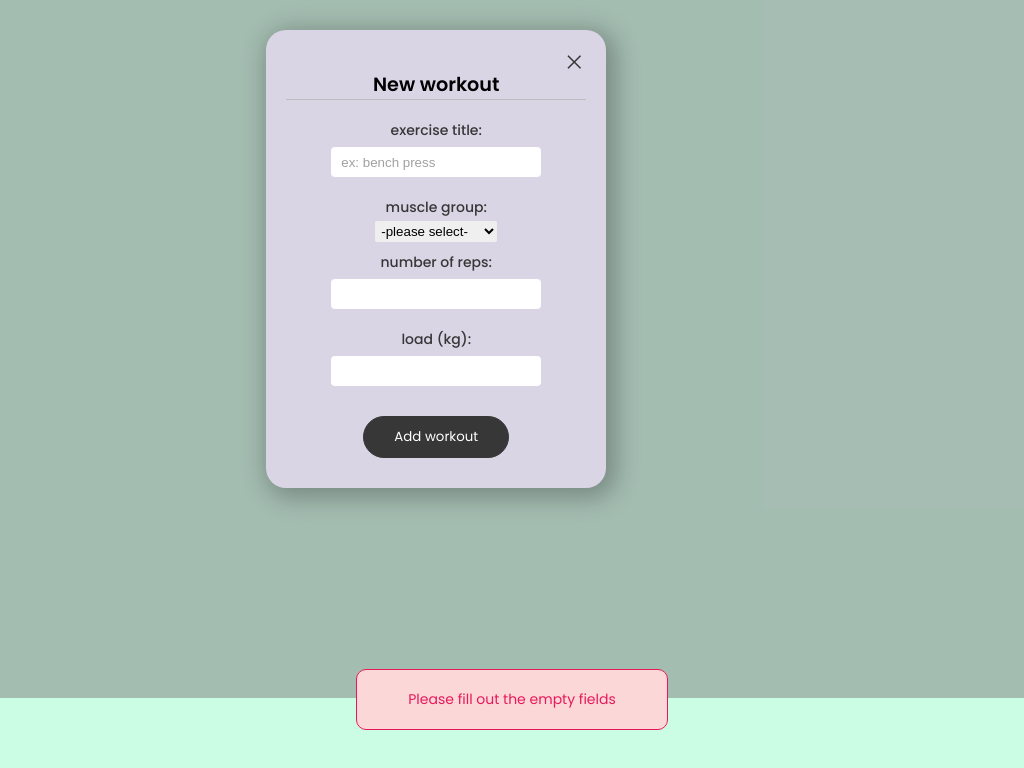
it: <WorkoutForm/> › should signal input error when title is too long
Type "adasdaasdsdfsdfdddfdfsdfsfsdfsfddsfsfsfsdfterttrtee" into the field with test id "title" at (436,162), box [331,147,541,177]
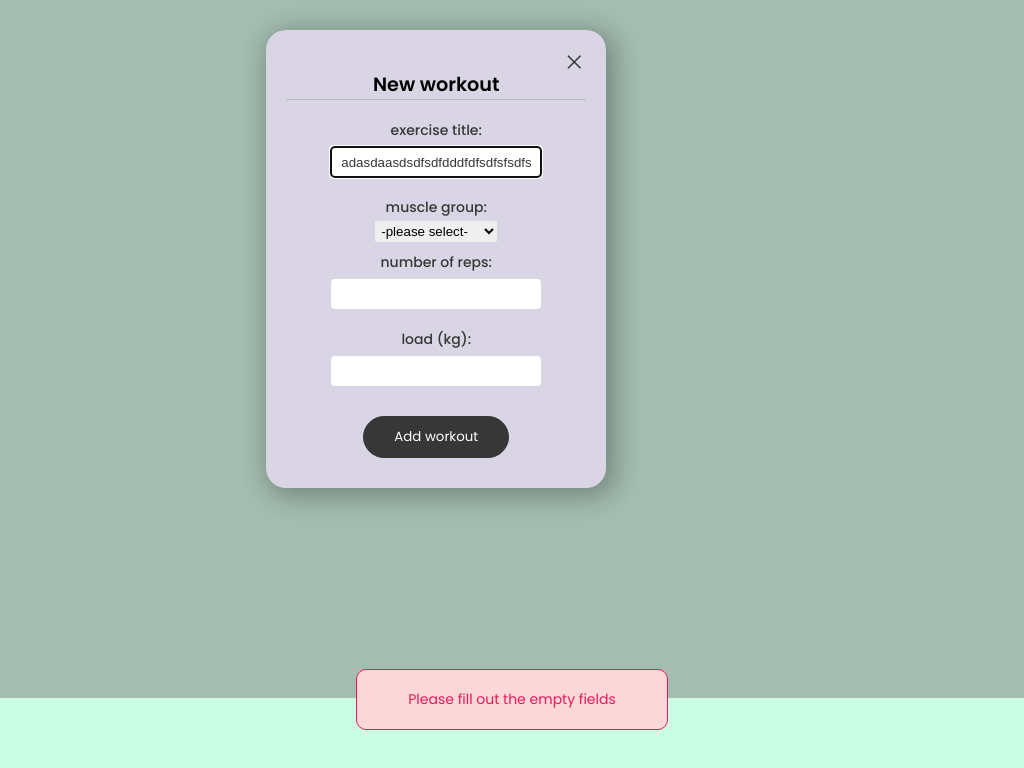
Select "biceps" in the dropdown with test id "muscle_group" at (436,232), box [375,221,497,242]
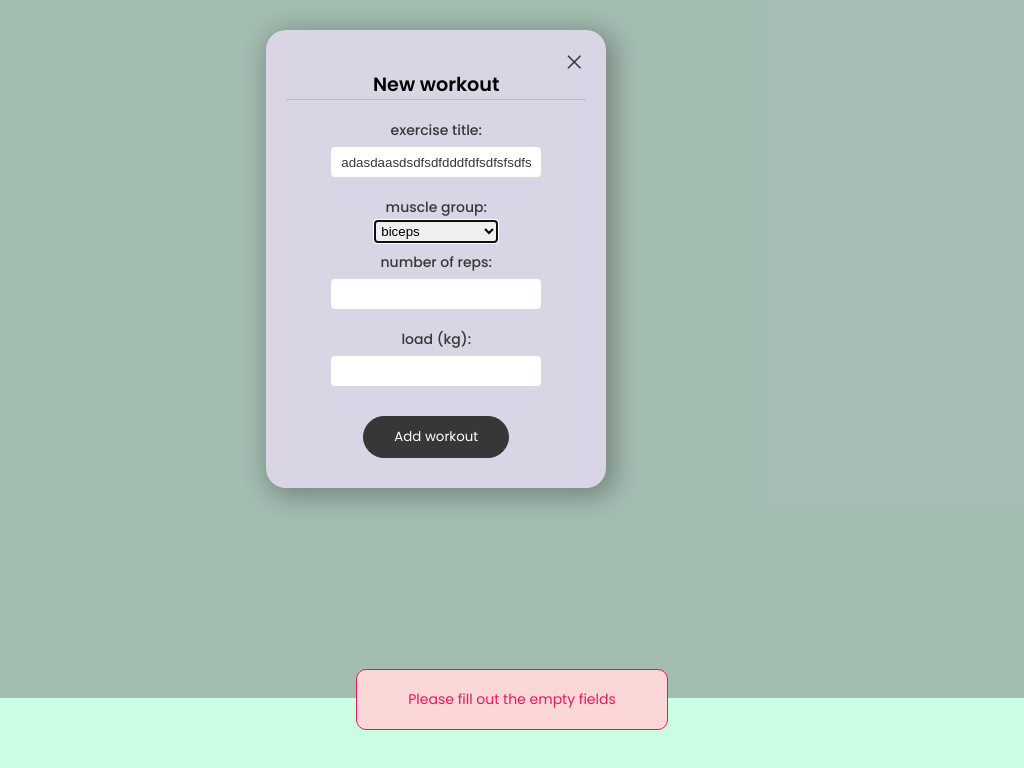
Type "22" into the number field with test id "reps" at (436,294), box [331,279,541,309]
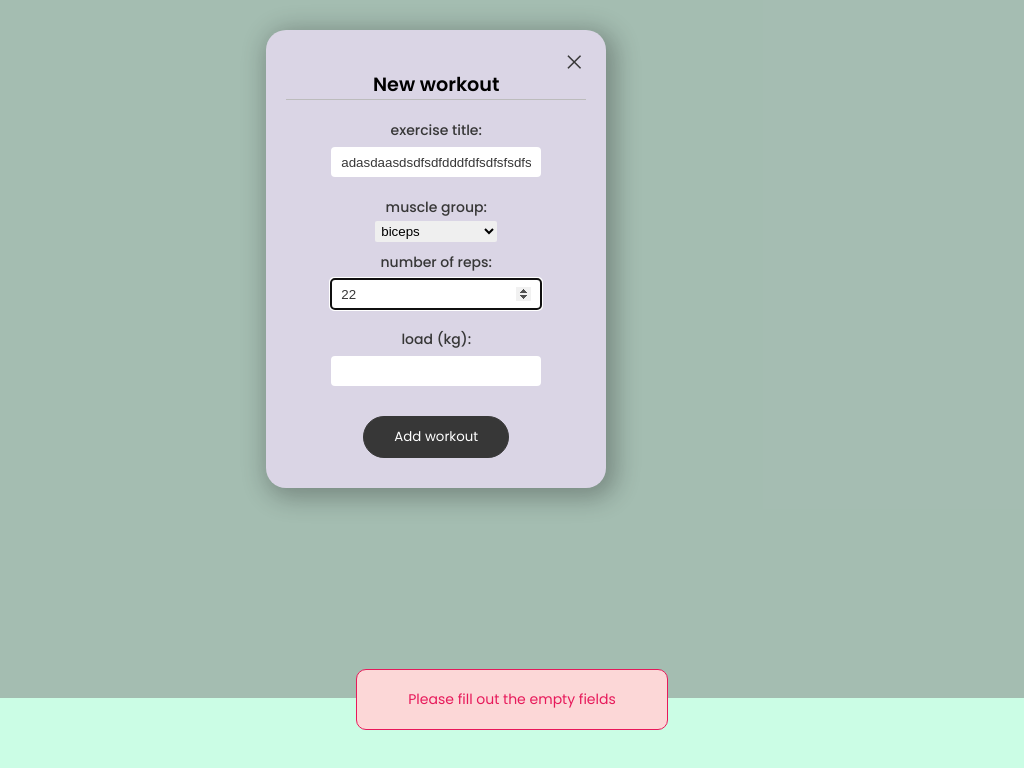
Type "22" into the number field with test id "load" at (436,371), box [331,356,541,386]
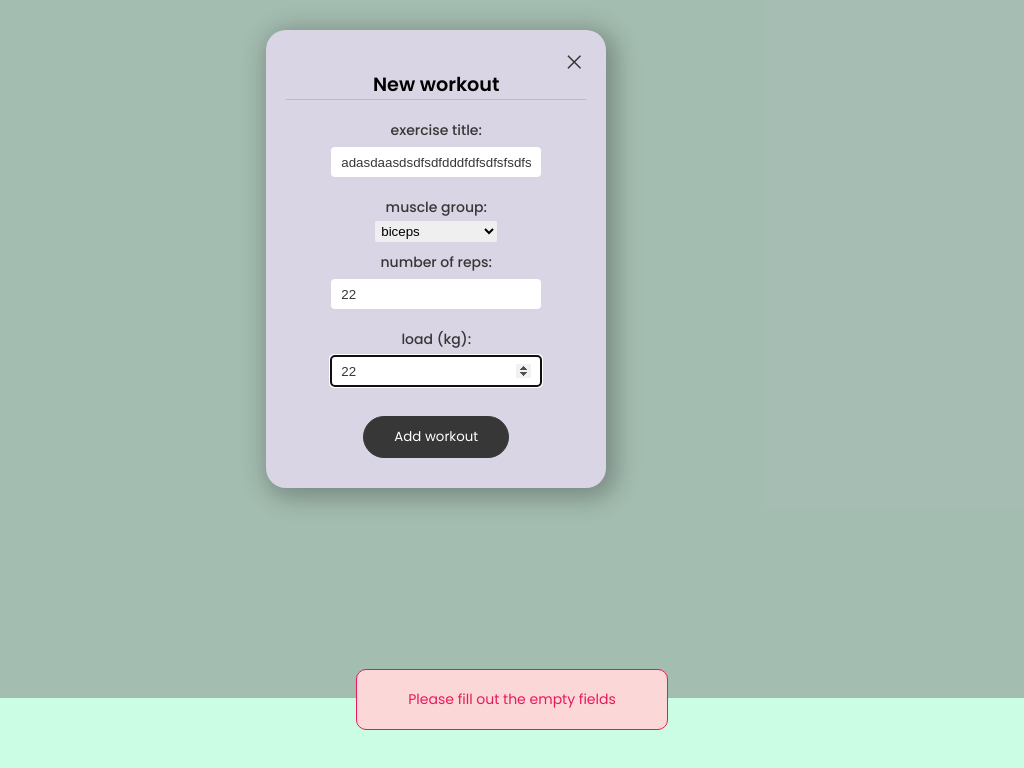
Click the button "Add workout" at (436,437), box [363,416,509,458]
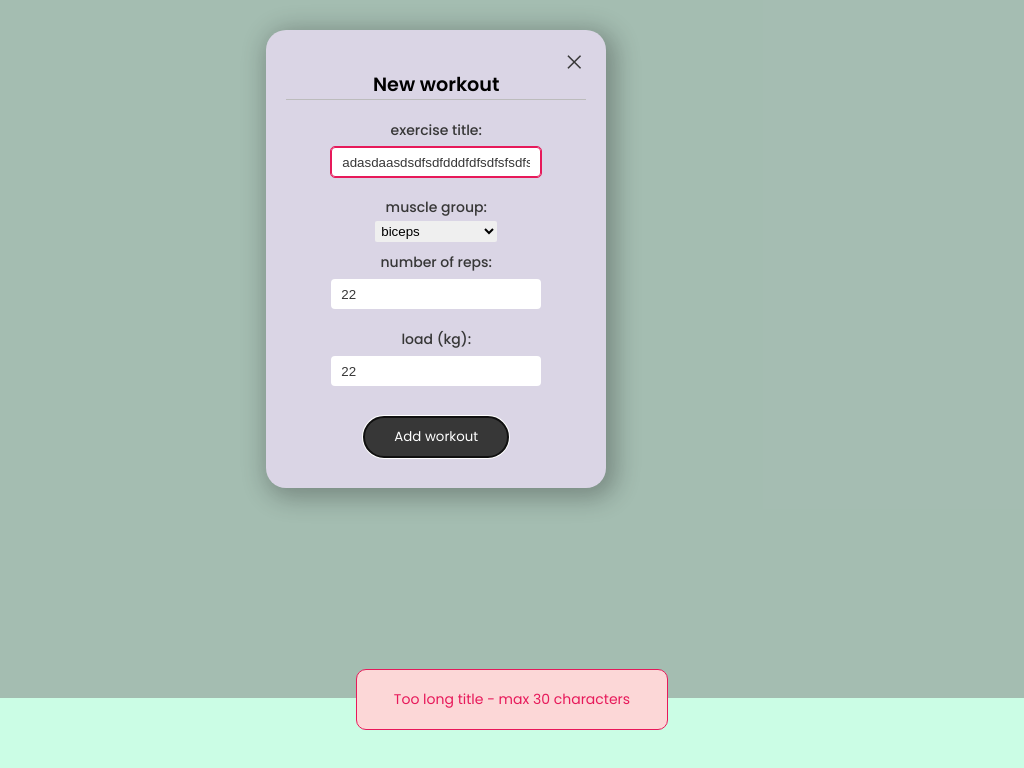
Check: the message "Too long title - max 30 characters" is shown, box [356,669,668,730]
Check: the message shows "max 30 characters", box [394,689,630,709]
